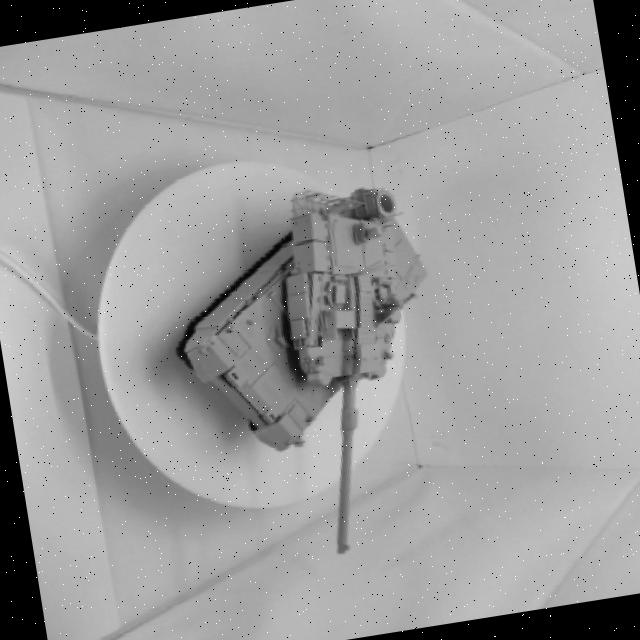korea tank: (129, 153, 498, 590)
